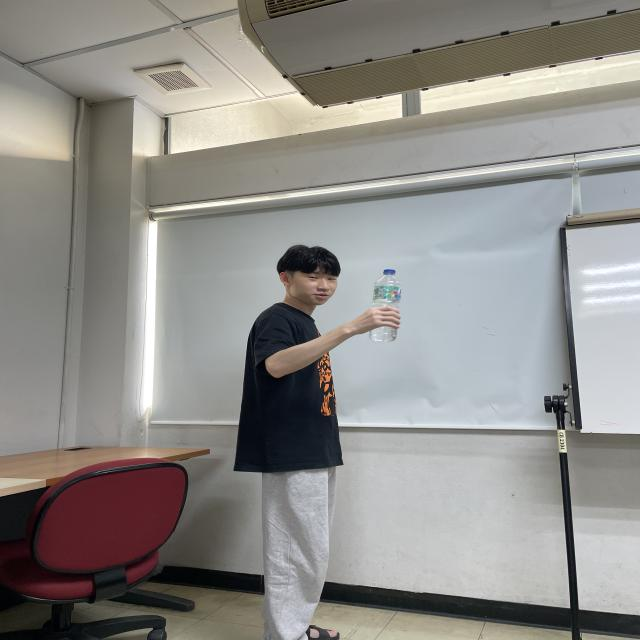bottle: (368, 268, 402, 342)
